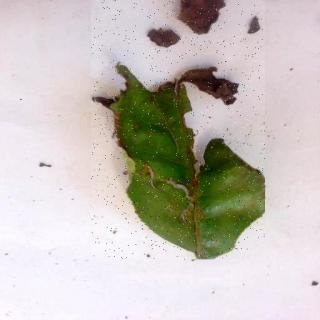Brown Blight: (92, 1, 266, 260)
